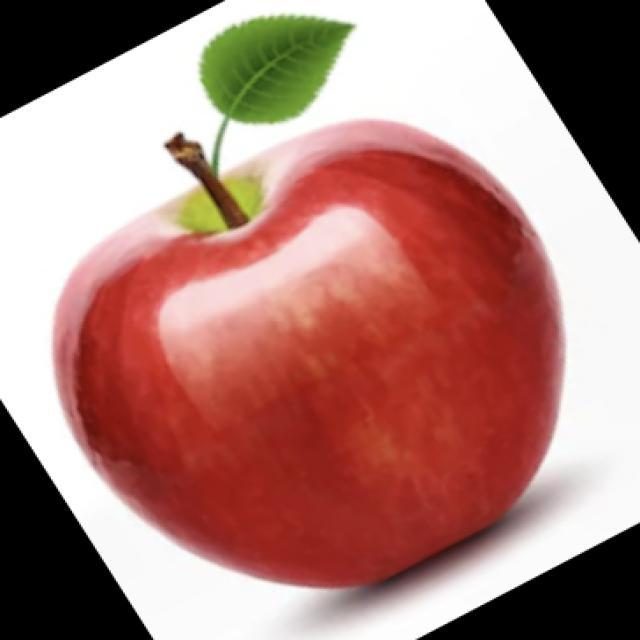Fresh Apple: (57, 110, 566, 582)
